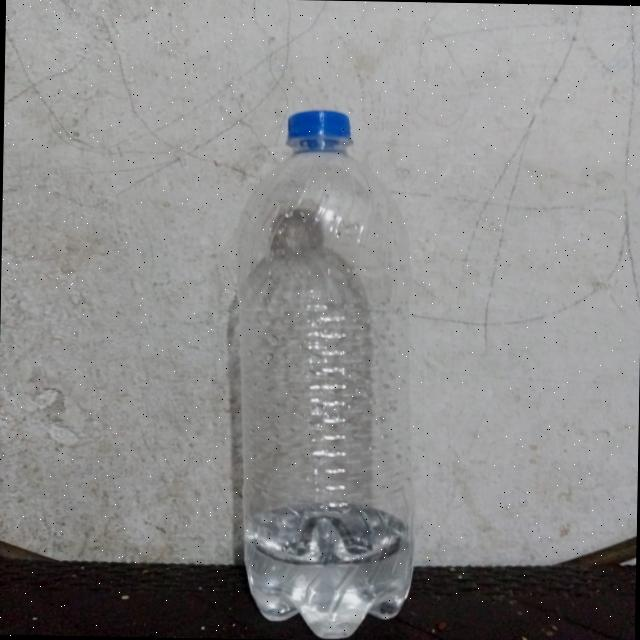bottle: (202, 92, 439, 640)
cap: (278, 104, 357, 154)
